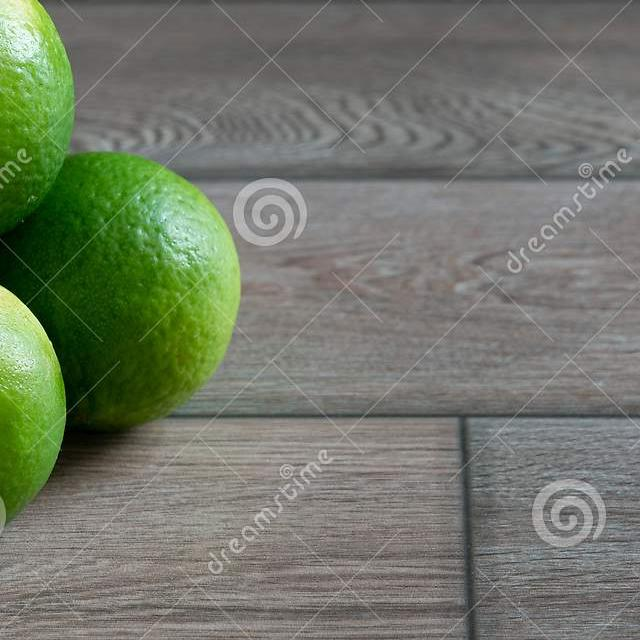lime: (0, 127, 249, 444), (0, 0, 97, 285), (0, 237, 79, 566)
